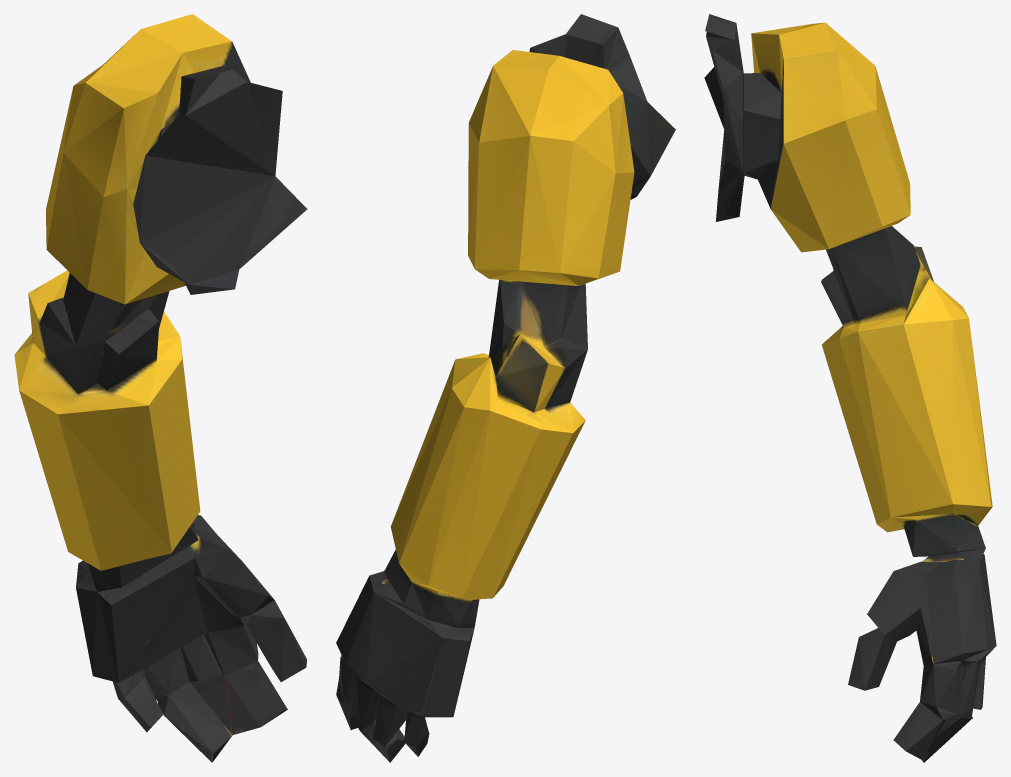
Rendered from SM_ChaserDebris_Arm_L.fbx.
3 views of the same model, side by side, from view 1: azimuth 30°, elevation 25°; view 2: azimuth 150°, elevation 25°; view 3: azimuth 270°, elevation 25° (orthographic). The views are drawn at different scales.
Visible parts, largest first — view 1: SM_ChaserDebris_Arm_L; view 2: SM_ChaserDebris_Arm_L; view 3: SM_ChaserDebris_Arm_L.
Part boxes in pixels (box(x1,y1,x2,y2)): SM_ChaserDebris_Arm_L: box(14, 14, 307, 762); SM_ChaserDebris_Arm_L: box(336, 14, 675, 762); SM_ChaserDebris_Arm_L: box(704, 14, 996, 762).
Size of the model in its own units: 19.96 by 56.8 by 21.75.
Materials: 1 (1 with a texture image).
